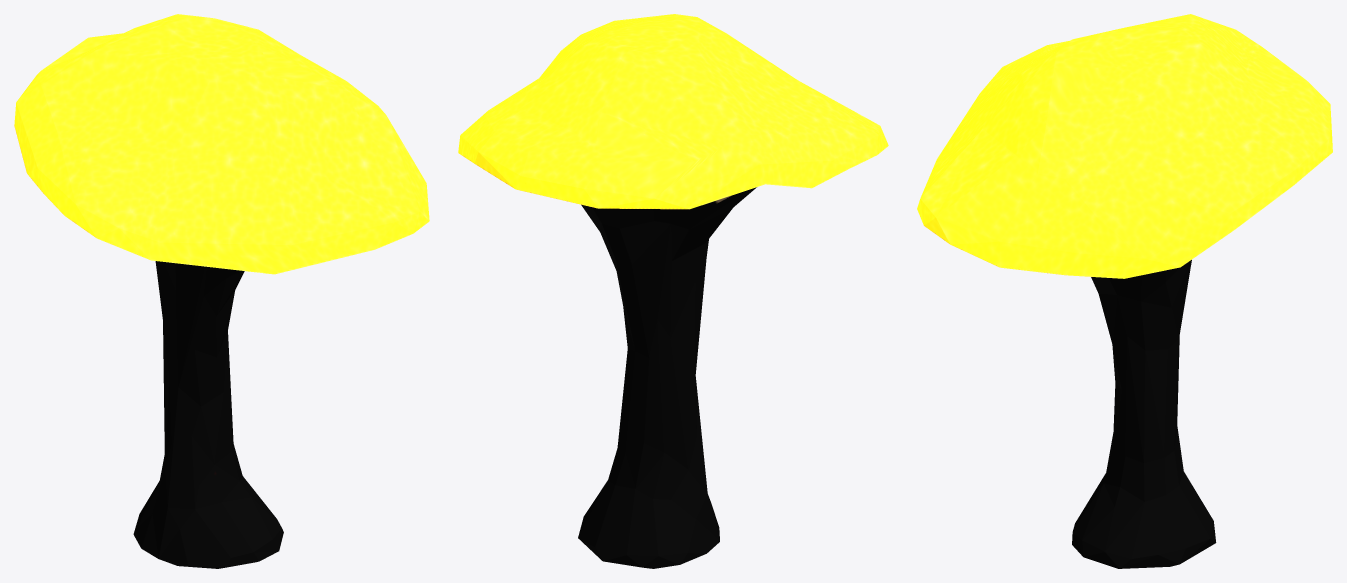
The model's file is Mushroom3.fbx.
3 renders of one model, left to right at view 1: azimuth 30°, elevation 25°; view 2: azimuth 150°, elevation 25°; view 3: azimuth 270°, elevation 25°, orthographic. The views are drawn at different scales.
Visible parts, largest first — view 1: Mushroom3_low; view 2: Mushroom3_low; view 3: Mushroom3_low.
Part boxes in pixels (<box>): Mushroom3_low: <box>14,14,429,568</box>; Mushroom3_low: <box>458,14,888,568</box>; Mushroom3_low: <box>917,14,1332,568</box>.
Bounding box in the file's own units: 22.01 × 31.04 × 23.16.
